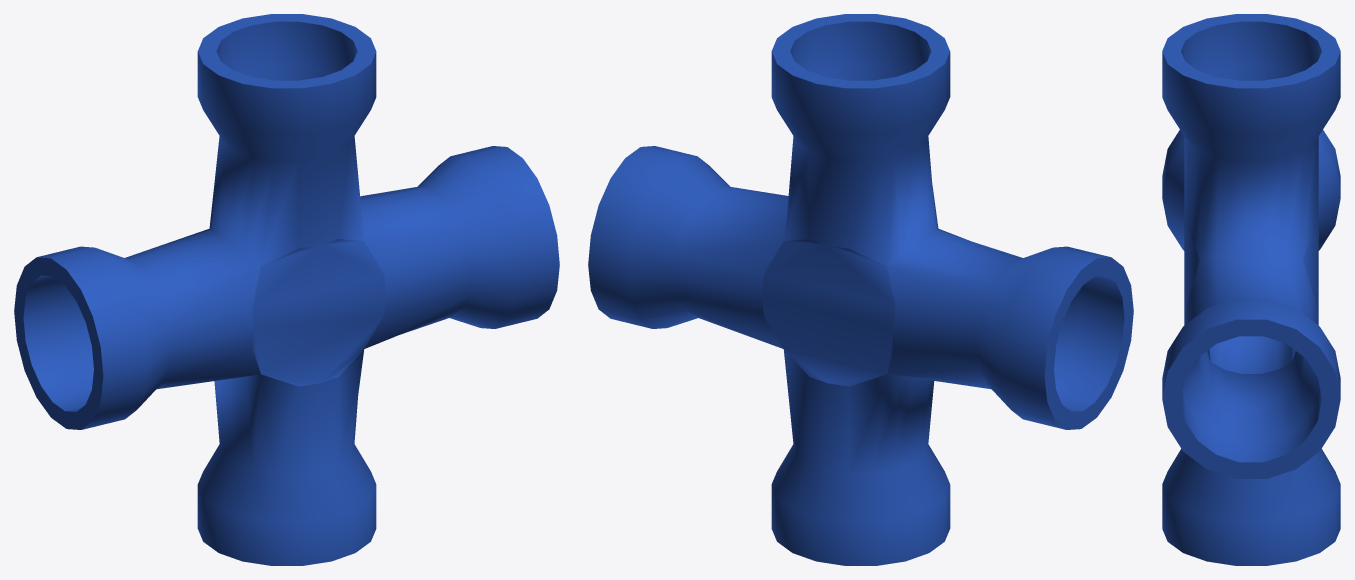
File: CrossPipe.fbx
The picture shows the model from 3 angles, left to right: view 1: azimuth 30°, elevation 25°; view 2: azimuth 150°, elevation 25°; view 3: azimuth 270°, elevation 25°; orthographic projection.
Visible parts, largest first — view 1: Tube002; view 2: Tube002; view 3: Tube002.
Part boxes in pixels (left/top/right/bottom): Tube002: left=14, top=14, right=559, bottom=565; Tube002: left=588, top=14, right=1133, bottom=565; Tube002: left=1162, top=14, right=1340, bottom=565.
Bounding box in the file's own units: 71.05 × 71.05 × 24.07.
